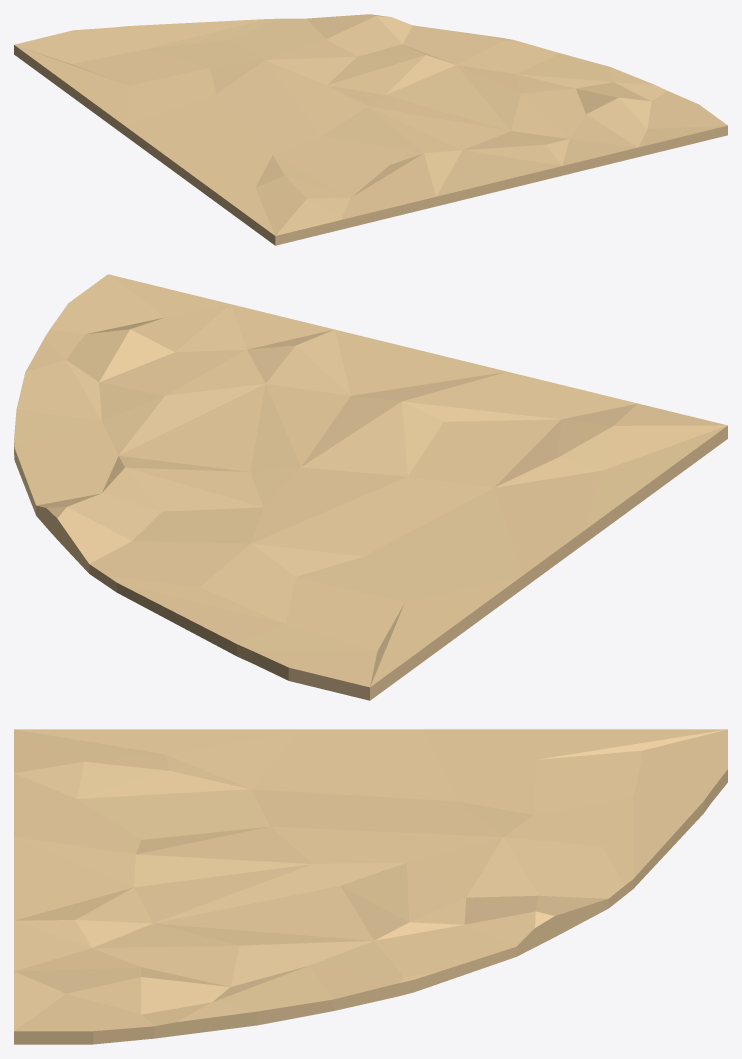
File: Sand_C.fbx
3 renders of one model, top to bottom at view 1: azimuth 30°, elevation 25°; view 2: azimuth 150°, elevation 25°; view 3: azimuth 270°, elevation 25°, orthographic. The views are drawn at different scales.
Visible parts, largest first — view 1: Sand_C; view 2: Sand_C; view 3: Sand_C.
Part boxes in pixels (x1,y1,x2,y2): Sand_C: (14, 14, 727, 245); Sand_C: (14, 274, 727, 700); Sand_C: (14, 729, 727, 1044).
Size of the model in its own units: 500 by 19.96 by 500.
